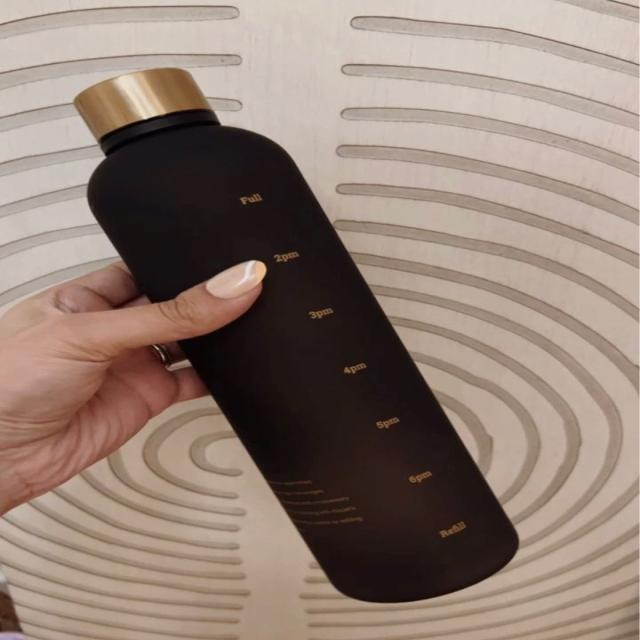bottle: (41, 65, 586, 604)
